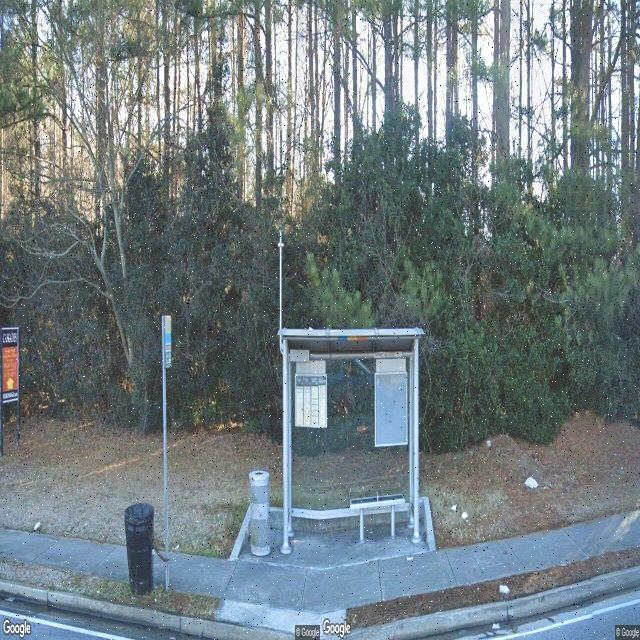seating: (348, 490, 408, 544)
shelter: (278, 328, 427, 556)
trash_can: (124, 501, 154, 586), (248, 468, 272, 558)
